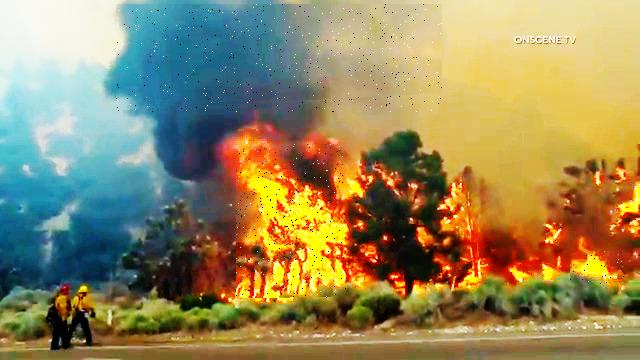fire: (236, 144, 346, 298), (571, 252, 625, 285)
smoke: (116, 5, 442, 113)
